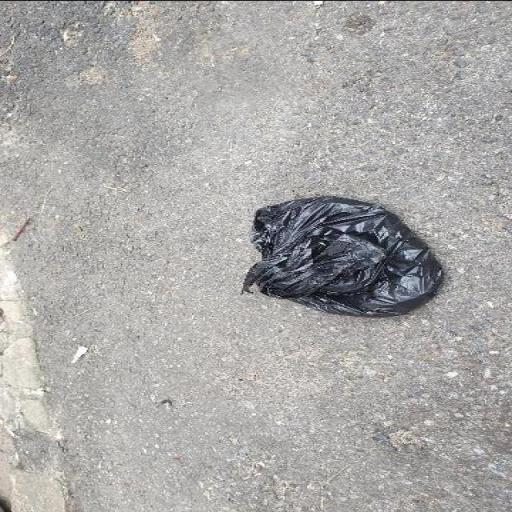plastic-bag: (238, 194, 446, 319)
